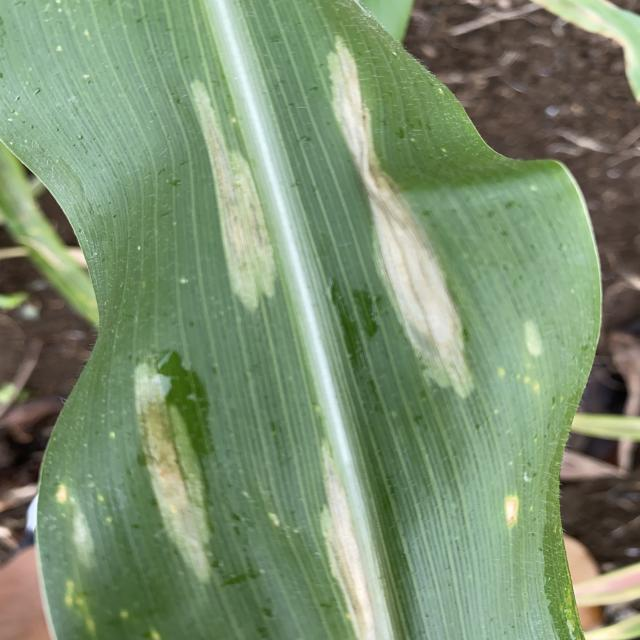Corn_Leaf_Blight: (41, 0, 608, 640)
